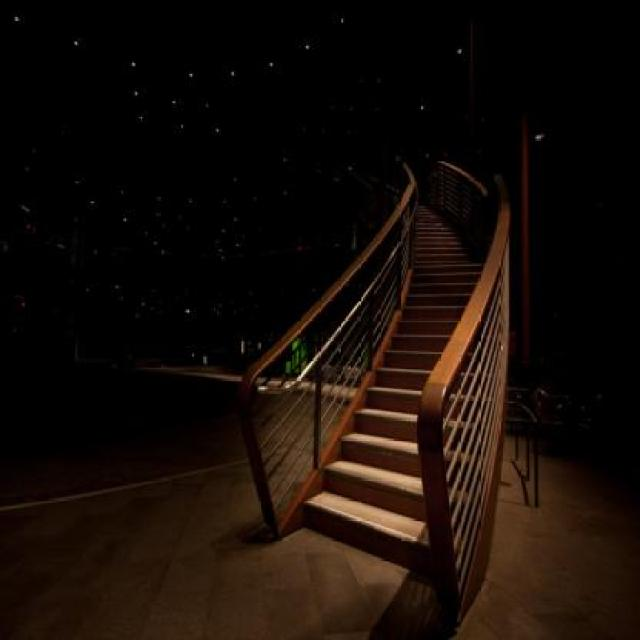stair: (299, 185, 503, 592)
